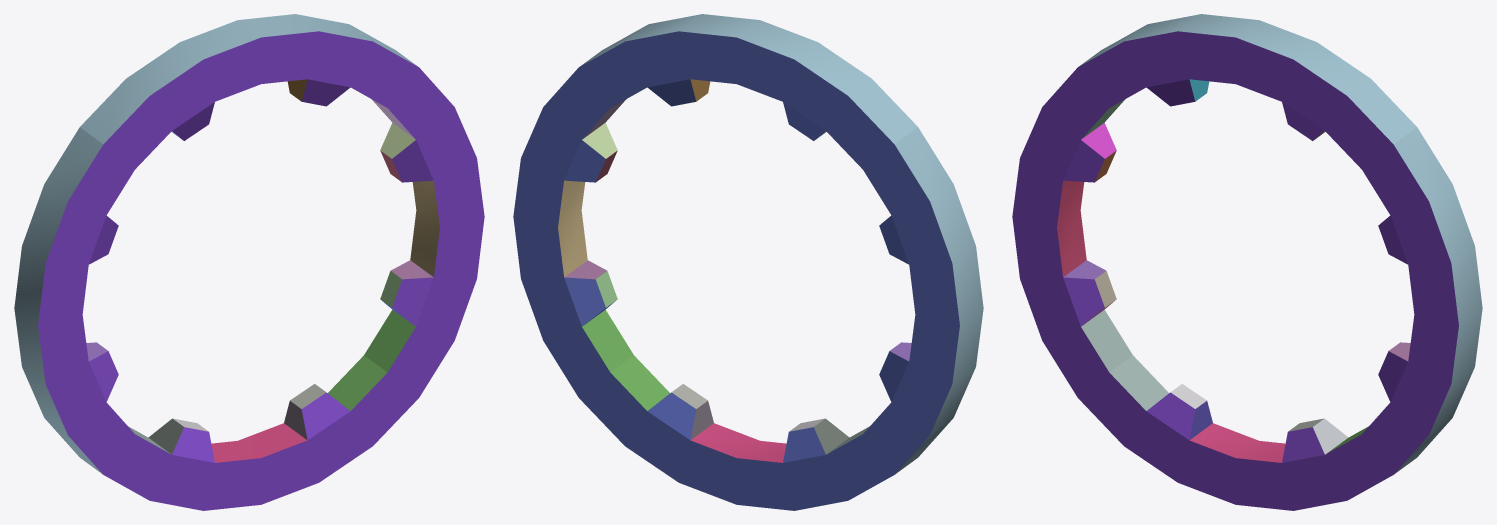
Rendered from module-scope-01.glb.
3 views of the same model, side by side, from view 1: azimuth 30°, elevation 25°; view 2: azimuth 150°, elevation 25°; view 3: azimuth 330°, elevation 25° (orthographic).
Size of the model in its own units: 2.4 by 2.4 by 0.2201.
